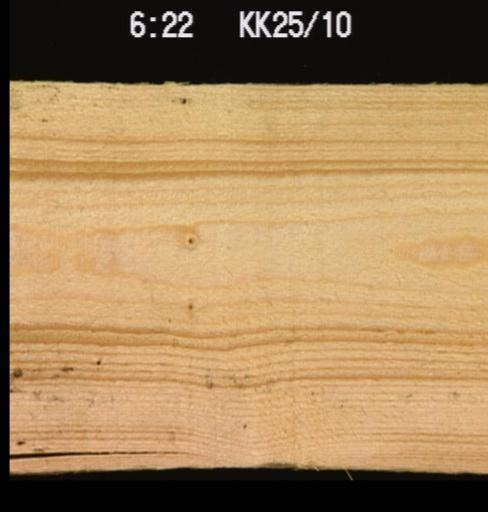small_knot: (181, 227, 199, 251), (175, 90, 190, 109), (181, 297, 196, 312)
split: (9, 441, 204, 462)
wave: (253, 453, 330, 469)
